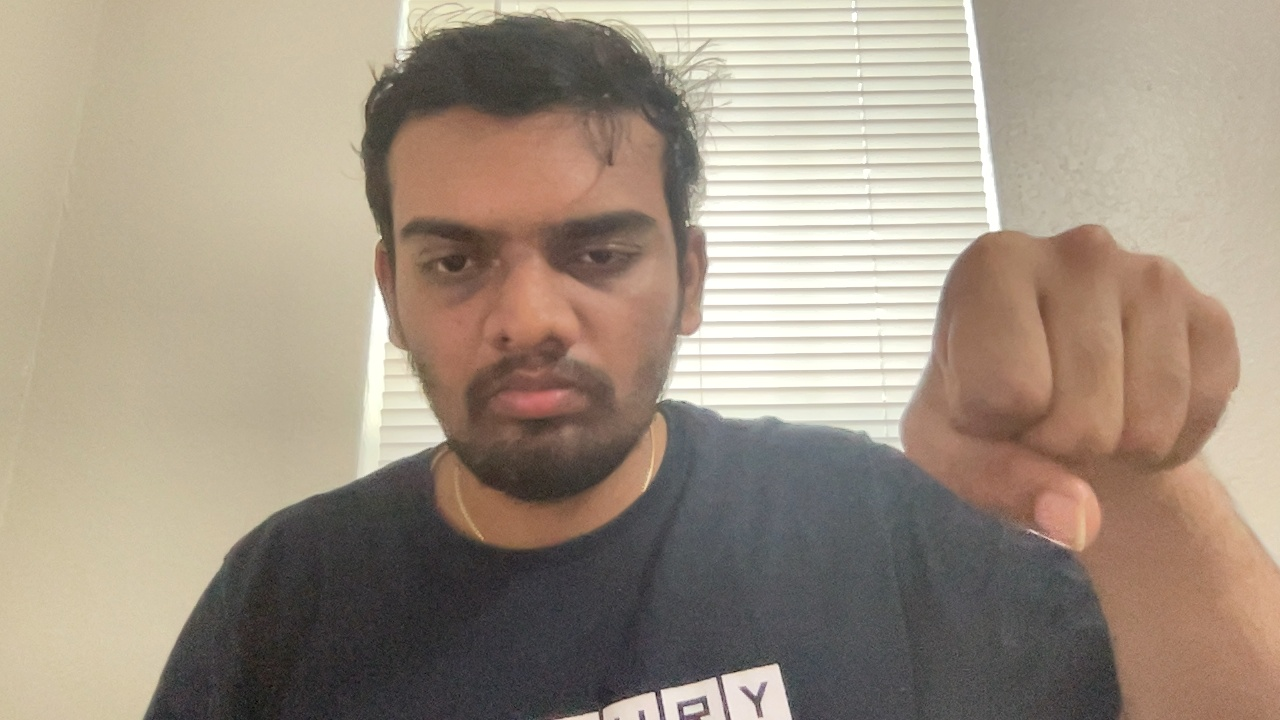yes: (900, 218, 1248, 558)
